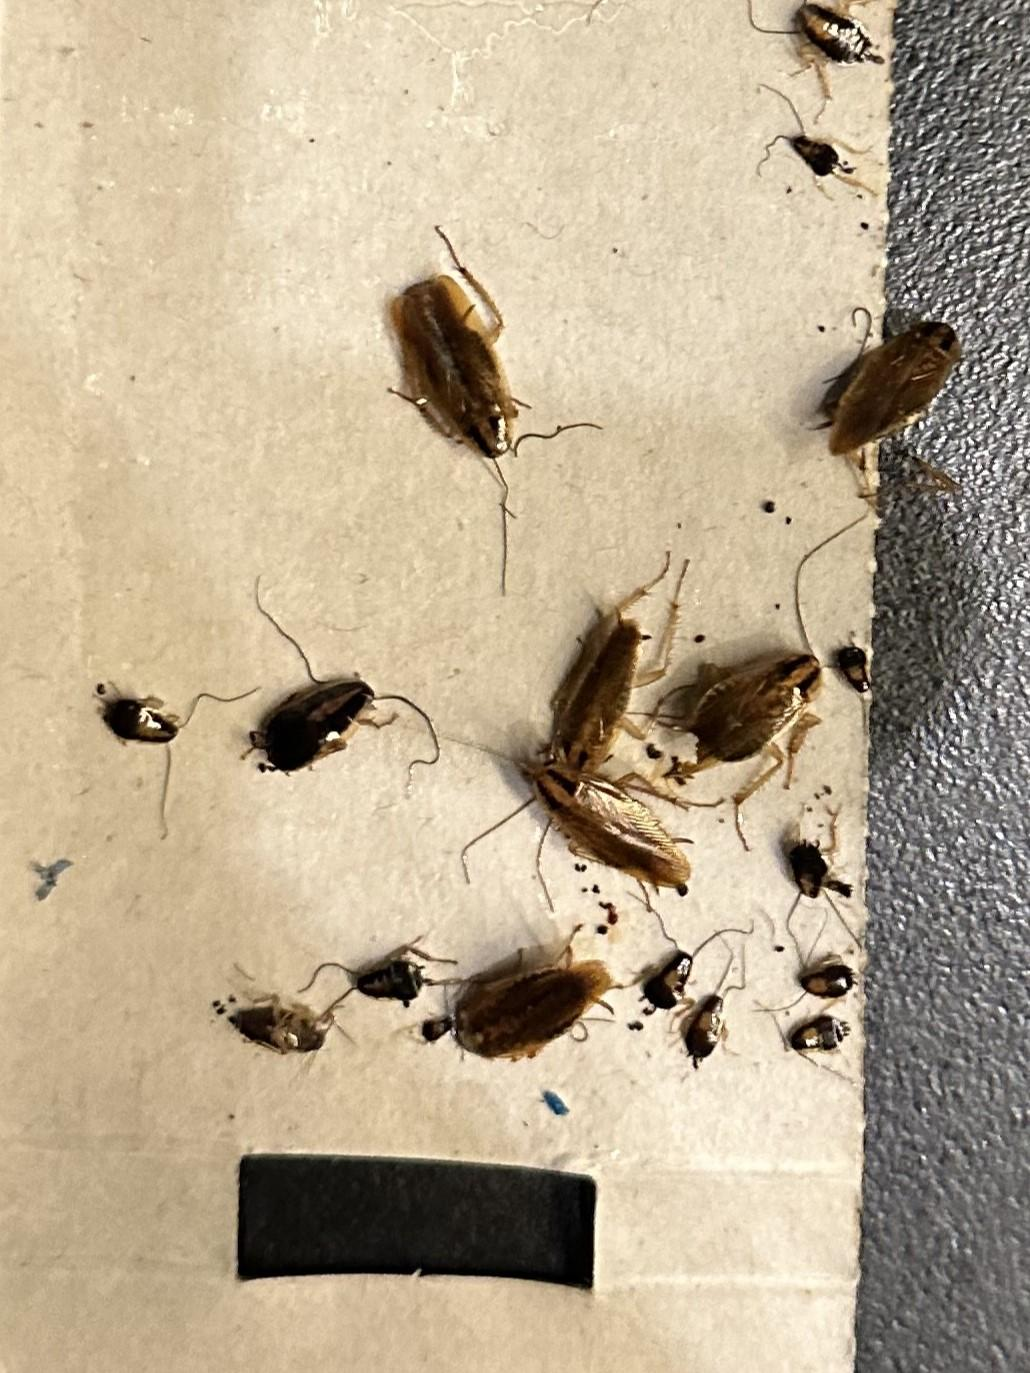cockroach: (295, 208, 600, 555), (204, 595, 453, 832), (775, 273, 991, 527), (475, 736, 715, 928), (65, 648, 270, 864), (669, 588, 847, 836), (490, 591, 677, 810), (409, 930, 618, 1098), (177, 938, 335, 1108), (293, 917, 458, 1022), (767, 1002, 895, 1103), (763, 913, 893, 1001), (622, 938, 713, 1037), (663, 1011, 742, 1073)
